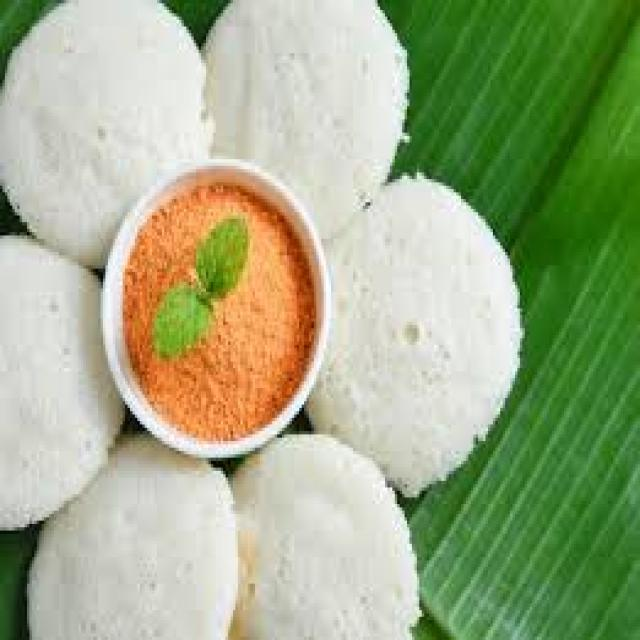IDLI: (307, 176, 517, 494), (0, 0, 206, 265), (206, 0, 407, 239), (29, 434, 235, 637), (230, 434, 417, 637), (0, 235, 123, 527)
